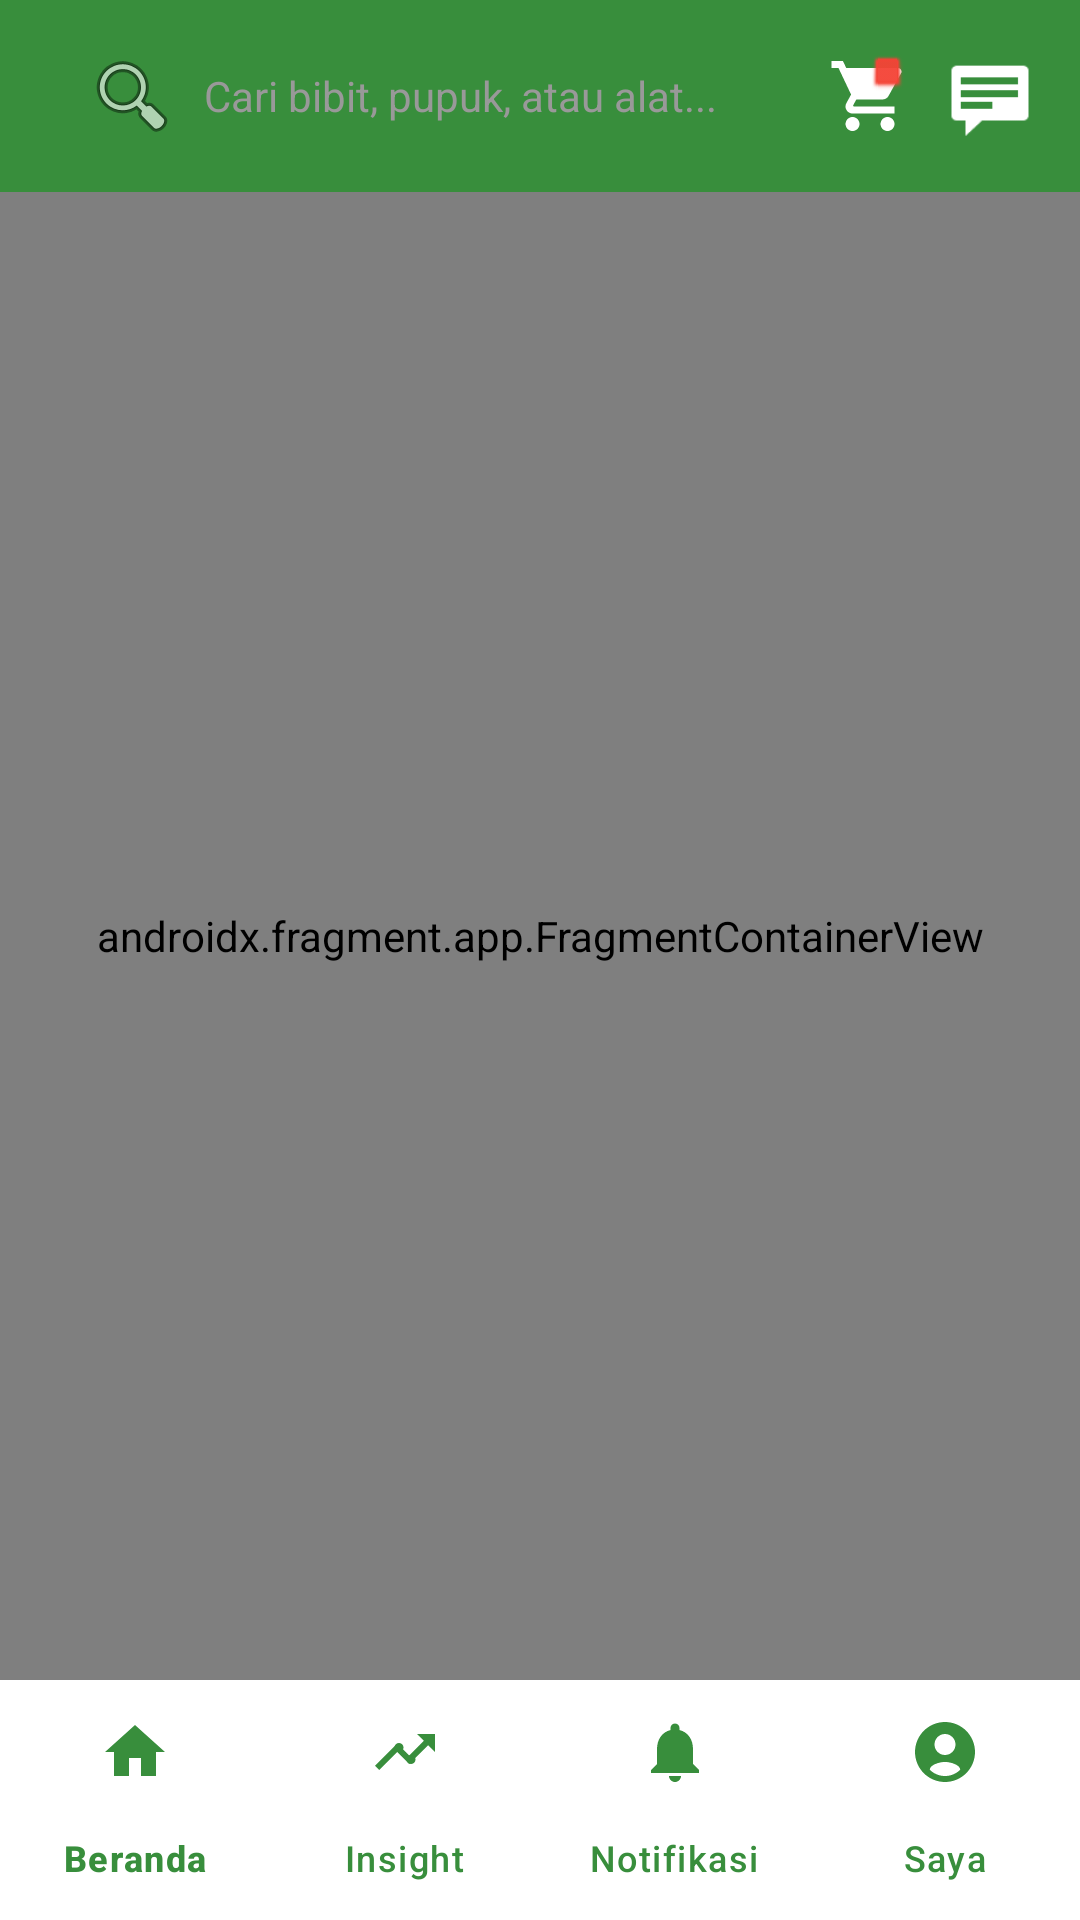

Locate icon controls on the screen. Image size 1080×1920, boxes as {"left": x1, "top": y1, "right": x2, "bottom": y2}.
cart: {"left": 831, "top": 57, "right": 902, "bottom": 131}
chat: {"left": 951, "top": 65, "right": 1029, "bottom": 136}
